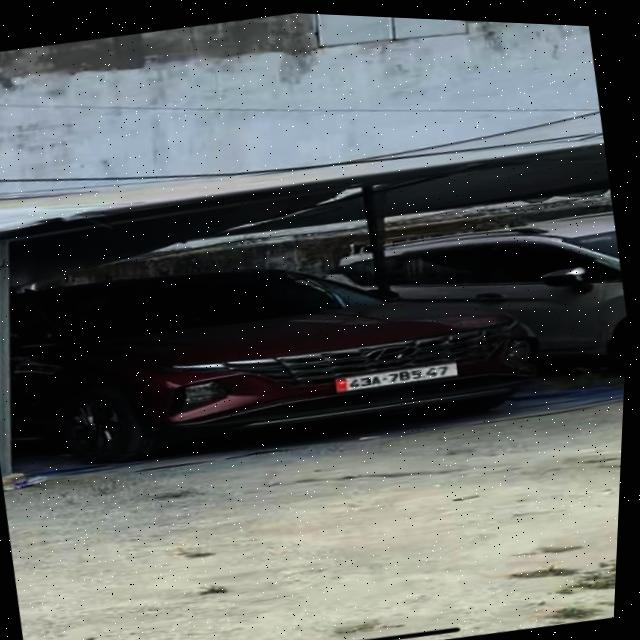car: (0, 197, 542, 507), (313, 201, 632, 419)
plate: (317, 341, 475, 410)
